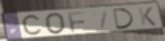7: (92, 10, 109, 30)
C: (21, 13, 44, 38)
D: (112, 8, 136, 31)
F: (66, 11, 88, 33)
K: (137, 6, 158, 27)
O: (44, 12, 68, 35)
